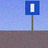sign: (25, 1, 39, 35)
